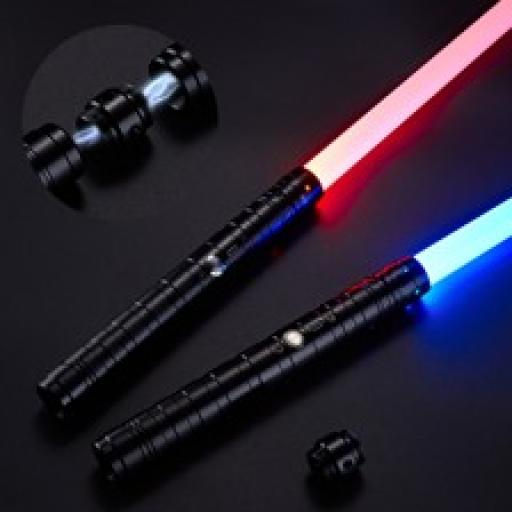lightsaber: (90, 193, 512, 490)
sith saber: (39, 2, 512, 415)
